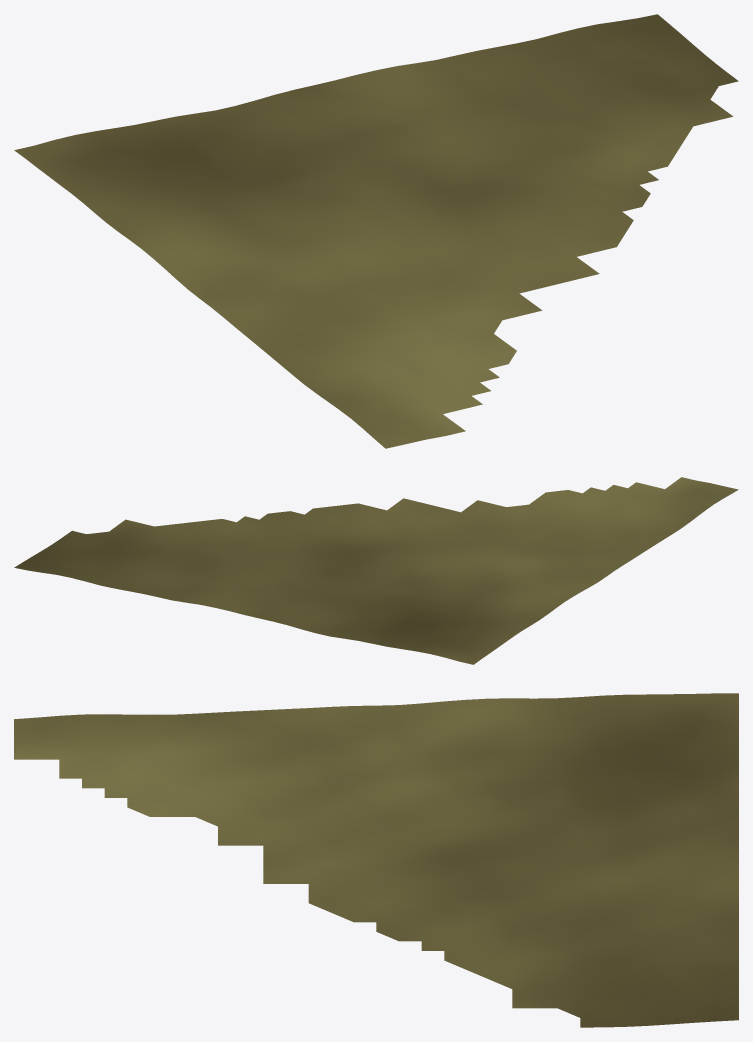
The model's file is terrain_lod0_4_3.obj.
3 views of the same model, one above another, from view 1: azimuth 30°, elevation 25°; view 2: azimuth 150°, elevation 25°; view 3: azimuth 270°, elevation 25° (orthographic). The views are drawn at different scales.
Visible parts, largest first — view 1: terrain_lod0_4_3; view 2: terrain_lod0_4_3; view 3: terrain_lod0_4_3.
Boxes of the visible parts, left/top/right/bottom form: terrain_lod0_4_3: left=14, top=14, right=738, bottom=448; terrain_lod0_4_3: left=14, top=477, right=738, bottom=664; terrain_lod0_4_3: left=14, top=693, right=738, bottom=1027.
Size of the model in its own units: 128 by 5.51 by 128.
